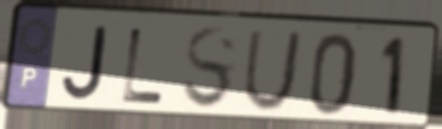0: (305, 30, 361, 118)
1: (377, 34, 409, 120)
J: (60, 24, 110, 103)
L: (119, 25, 168, 106)
S: (180, 24, 241, 114)
U: (239, 28, 305, 115)
